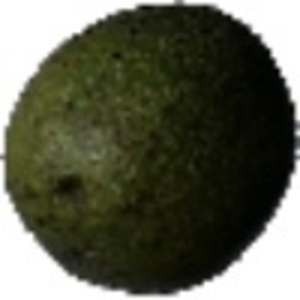abacate: (4, 3, 297, 297)
